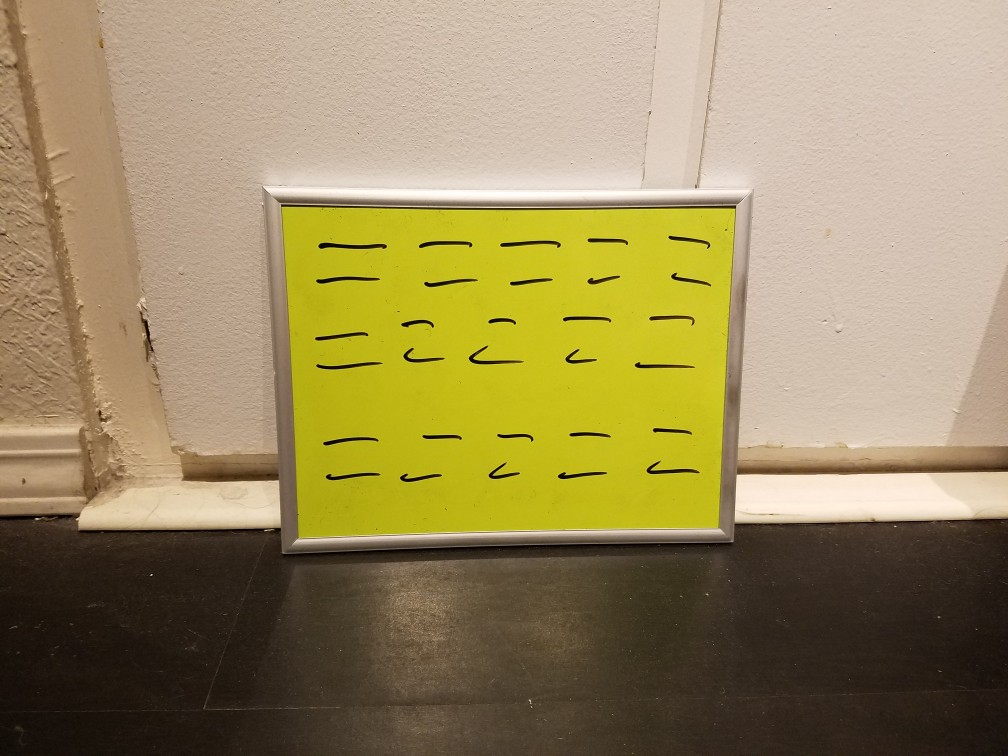=: (293, 216, 394, 300), (622, 406, 711, 489), (458, 303, 546, 381), (628, 306, 711, 386), (651, 221, 729, 299), (397, 422, 477, 498), (547, 417, 623, 494), (311, 421, 389, 495), (407, 224, 487, 295), (492, 230, 566, 300), (479, 420, 545, 491), (386, 307, 450, 377), (554, 303, 617, 374), (313, 315, 380, 381), (582, 224, 635, 295)
